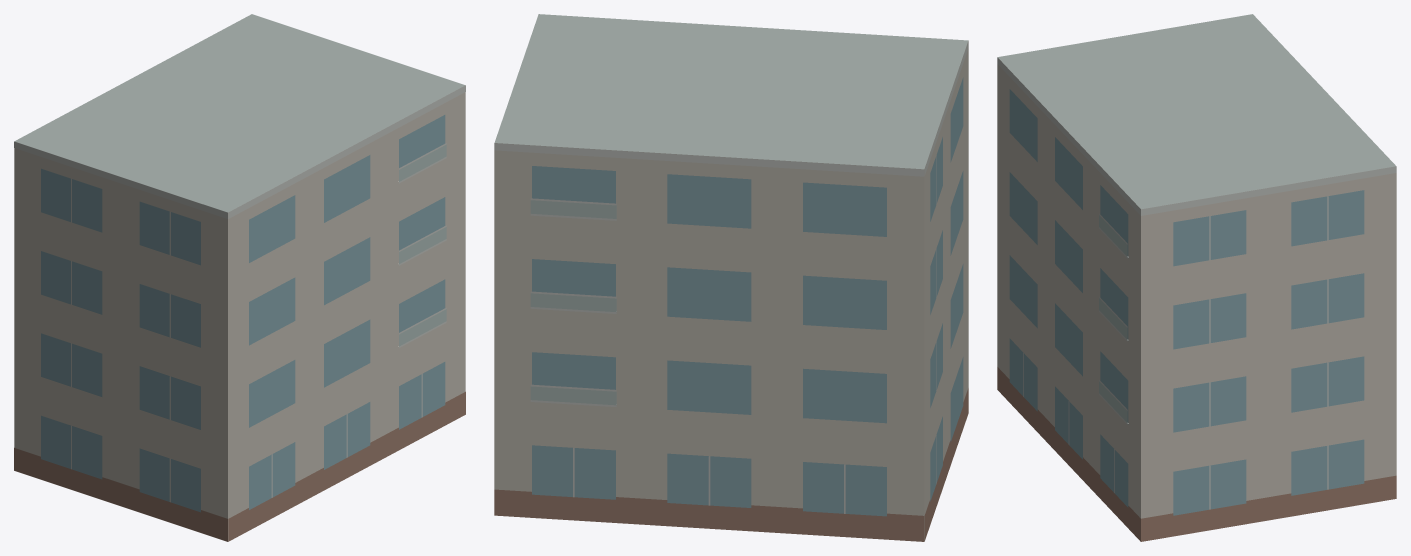
The model's file is residential-8736eac5-b66f-477c-a269-dd5b4bb25a2e.glb.
3 renders of one model, left to right at view 1: azimuth 30°, elevation 25°; view 2: azimuth 150°, elevation 25°; view 3: azimuth 270°, elevation 25°, orthographic. The views are drawn at different scales.
Parts seen in each view (by area): view 1: residential-8736eac5-b66f-477c-a269-dd5b4bb25a2e.tmp; view 2: residential-8736eac5-b66f-477c-a269-dd5b4bb25a2e.tmp; view 3: residential-8736eac5-b66f-477c-a269-dd5b4bb25a2e.tmp.
Part boxes in pixels (x1,y1,x2,y2): residential-8736eac5-b66f-477c-a269-dd5b4bb25a2e.tmp: (14,14,465,541); residential-8736eac5-b66f-477c-a269-dd5b4bb25a2e.tmp: (494,14,968,541); residential-8736eac5-b66f-477c-a269-dd5b4bb25a2e.tmp: (997,14,1396,541).
Size of the model in its own units: 15.38 by 12.2 by 13.28.
